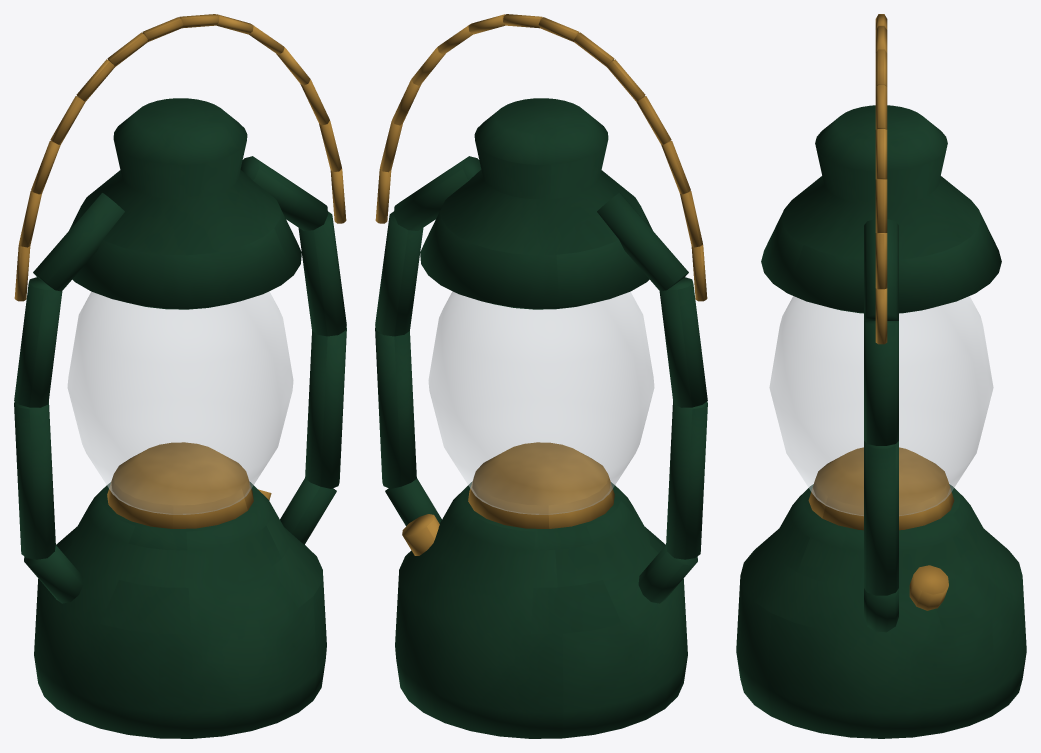
The model's file is lantern_hurricane.glb.
3 renders of one model, left to right at view 1: azimuth 30°, elevation 25°; view 2: azimuth 150°, elevation 25°; view 3: azimuth 270°, elevation 25°, orthographic.
Visible parts, largest first — view 1: LanternHood, LanternBody, LanternGlass, LanternBrass; view 2: LanternHood, LanternBody, LanternGlass, LanternBrass; view 3: LanternBody, LanternHood, LanternGlass, LanternBrass.
Boxes of the visible parts, x1,y1,x2,y2 form: LanternHood: (14, 98, 346, 603); LanternBody: (34, 482, 326, 738); LanternGlass: (67, 291, 293, 514); LanternBrass: (14, 14, 346, 528); LanternHood: (375, 98, 707, 603); LanternBody: (395, 482, 687, 738); LanternGlass: (428, 291, 654, 514); LanternBrass: (375, 14, 707, 555); LanternBody: (736, 484, 1026, 738); LanternHood: (761, 105, 1001, 632); LanternGlass: (769, 296, 993, 515); LanternBrass: (808, 14, 954, 610).
Bounding box in the file's own units: 0.1808 × 0.3474 × 0.14.
3 materials, 2 textured.
